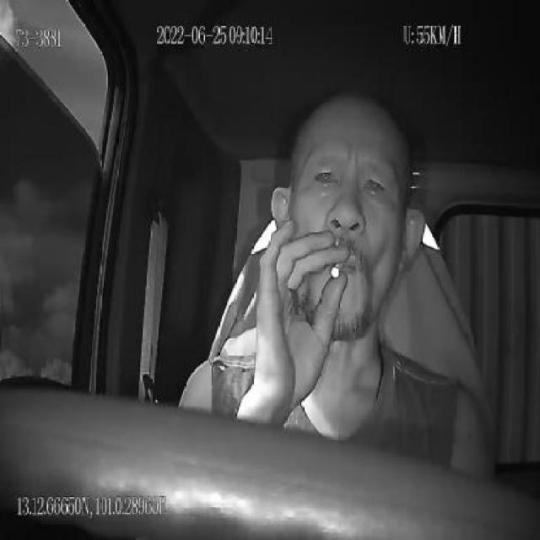smoking: (330, 259, 342, 278)
